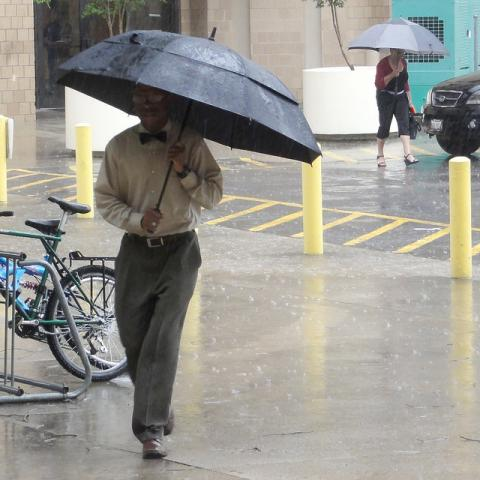car: (422, 73, 479, 158)
